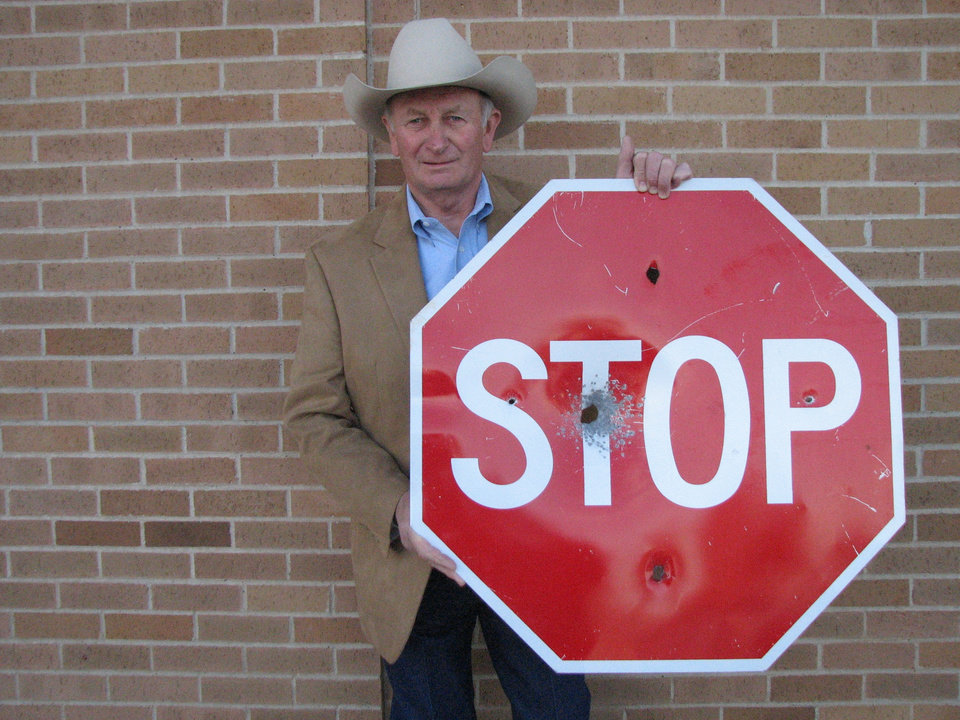stop: (411, 175, 900, 671), (535, 173, 902, 671), (411, 306, 902, 672), (409, 169, 900, 519), (411, 306, 793, 669)
